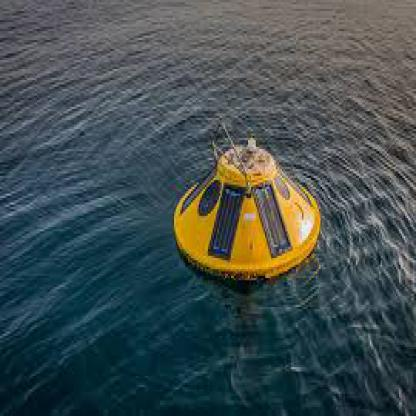buoy: (166, 116, 324, 289)
